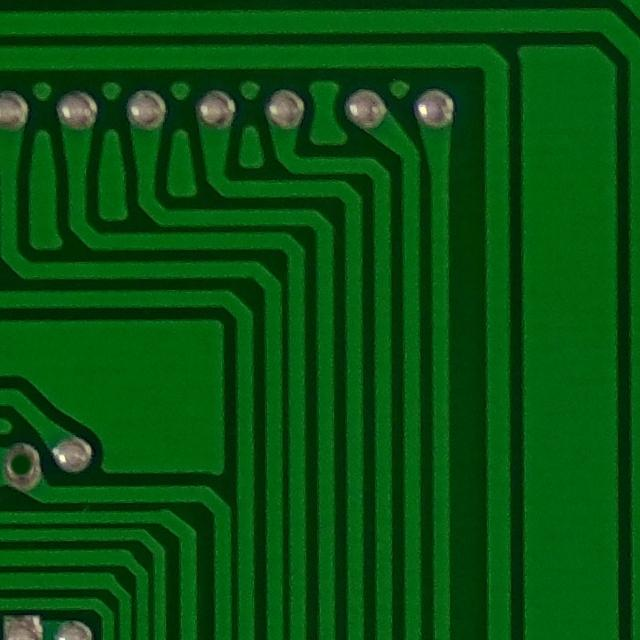missing_hole: (0, 433, 54, 496)
